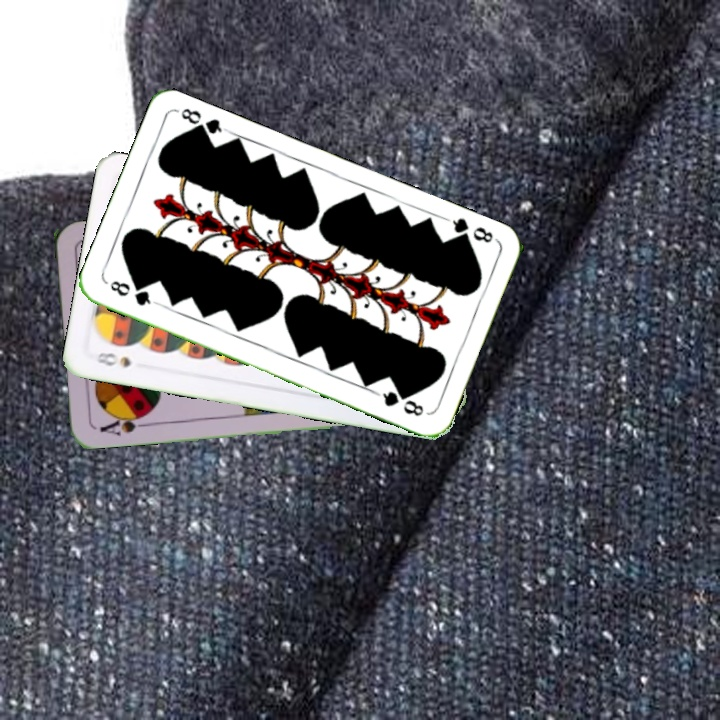G8: (442, 213, 499, 247), (105, 276, 160, 309)
S8: (92, 348, 133, 370)
SA: (96, 409, 152, 439)
